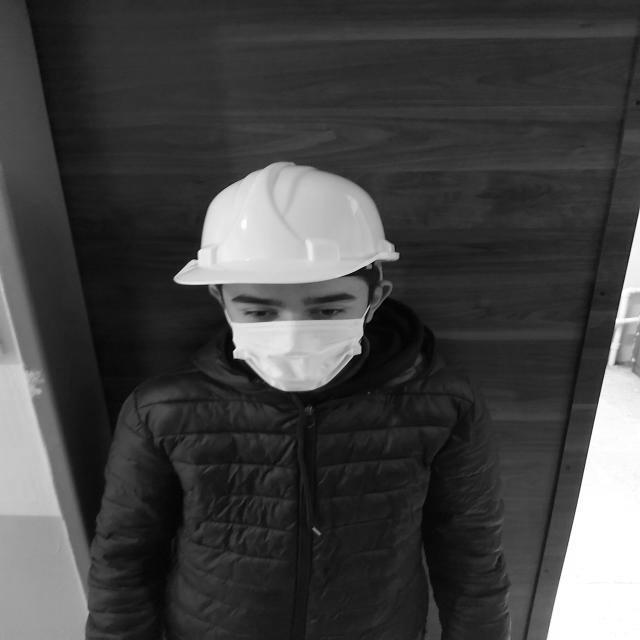construction helmet: (172, 162, 401, 290)
